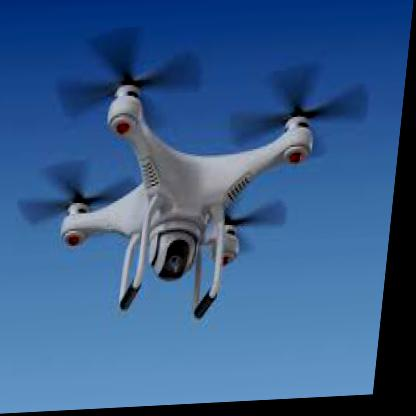UAS: (12, 20, 376, 332)
